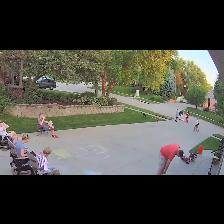person: (158, 144, 183, 174), (38, 114, 58, 138), (36, 147, 55, 171), (0, 121, 18, 143), (15, 135, 29, 157), (194, 118, 198, 131), (175, 109, 178, 122), (50, 170, 59, 174), (179, 111, 183, 120)
